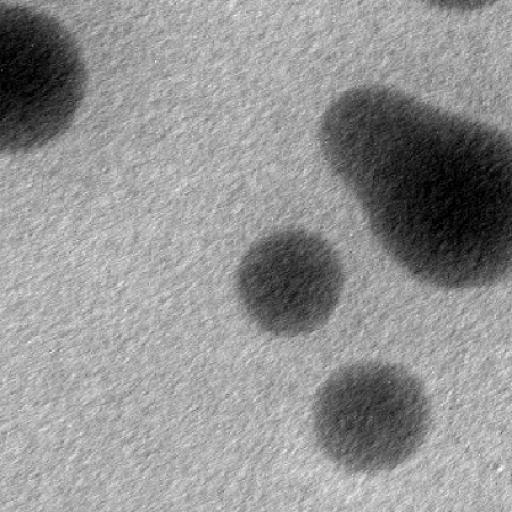Nanoparticles: (322, 82, 512, 292), (311, 358, 427, 472), (2, 5, 83, 148), (237, 229, 343, 333)
